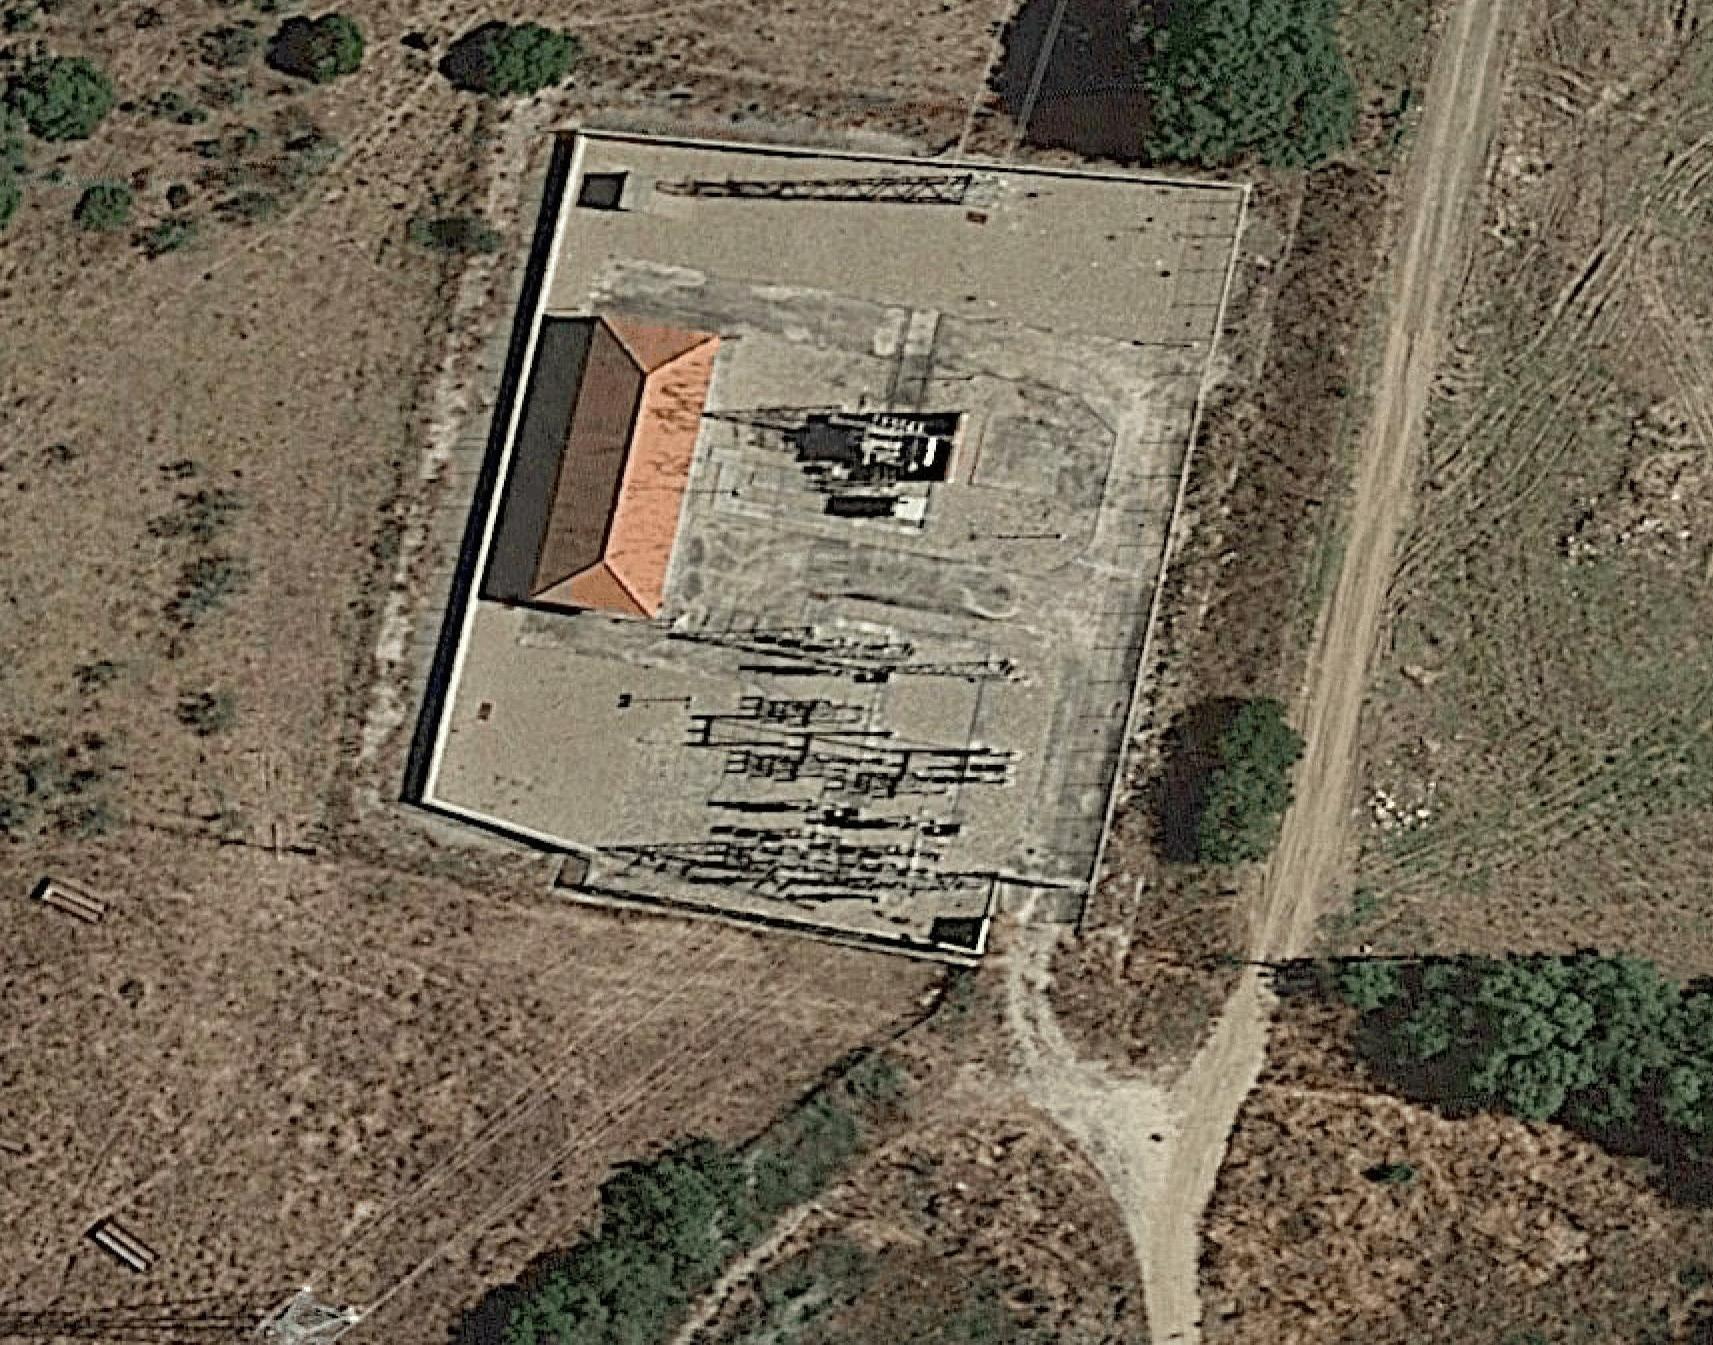substation: (576, 367, 1026, 926)
